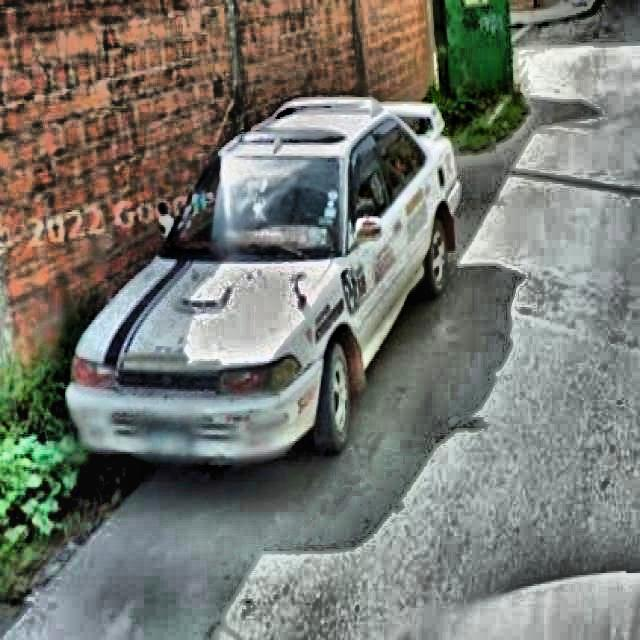carro: (86, 113, 464, 466)
